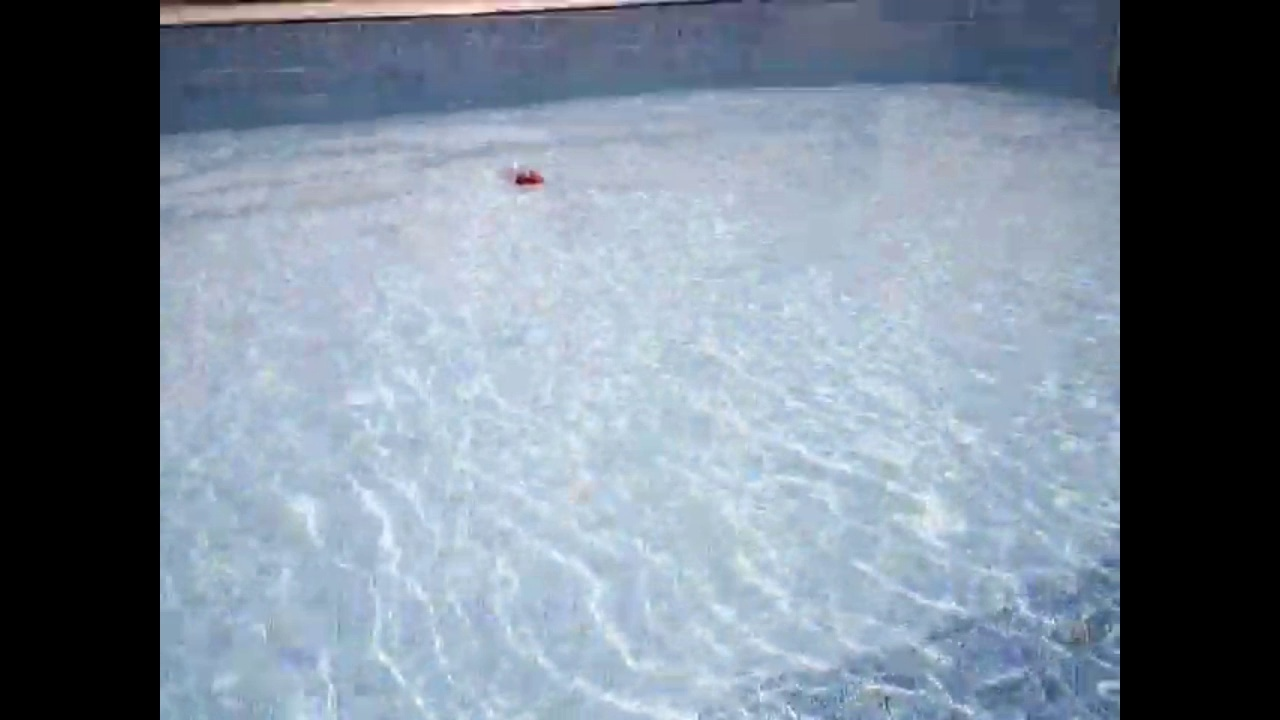debris: (489, 158, 551, 191)
